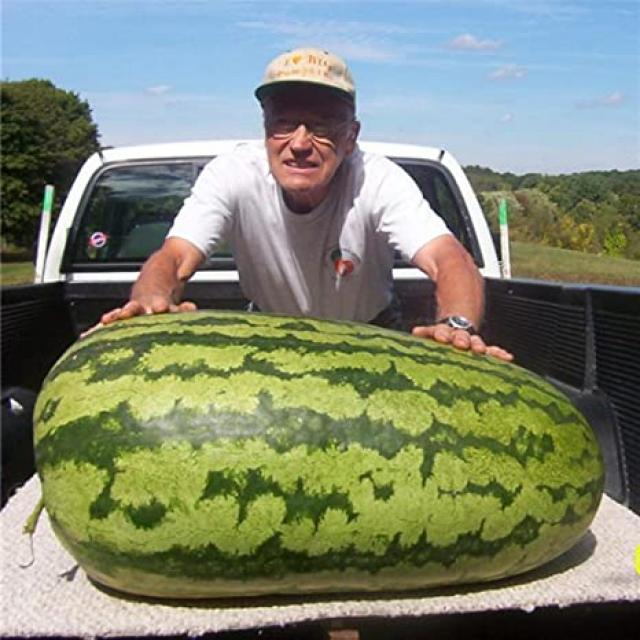watermelon: (36, 310, 603, 600)
